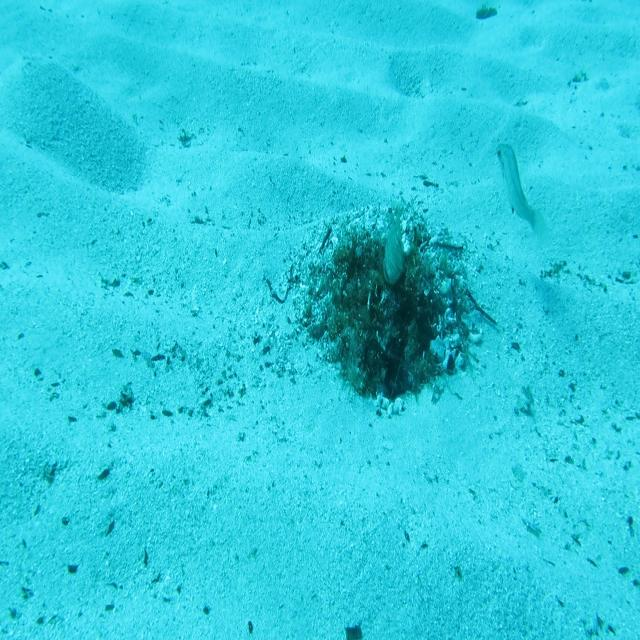NIP_CORE: (378, 202, 408, 289)
core_nest: (358, 253, 399, 286)
female: (493, 140, 550, 242)
nest: (281, 189, 487, 425)
vegetation: (474, 3, 501, 23)
